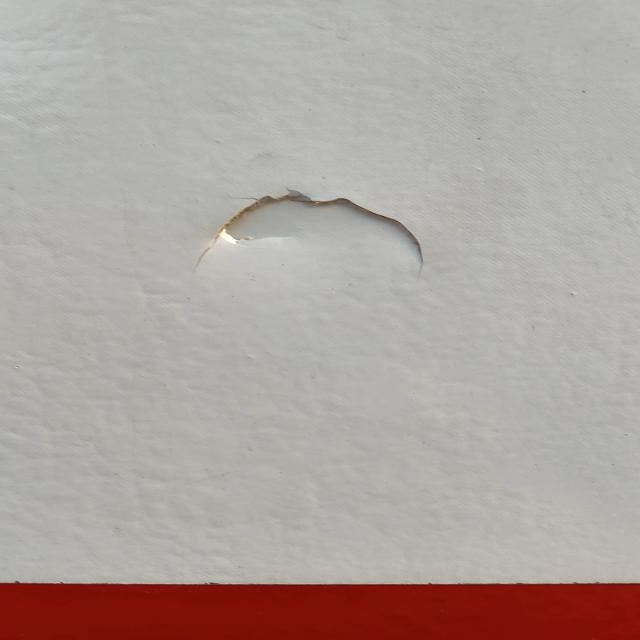Scratches: (169, 157, 425, 283)
